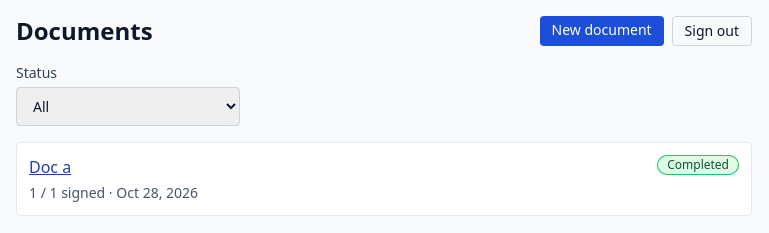
it: documents list › filters by status and keeps it in the URL
This screenshot has width=769, height=233.
Expected: the link "Doc a" is shown, [29,155,71,179]
Select "draft" in the dropdown labelled "Status" at (128, 106), box [16,87,240,126]
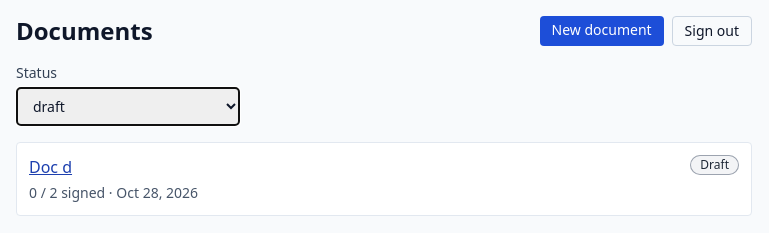
Result: the link "Doc d" is shown at [29,155,72,179]
